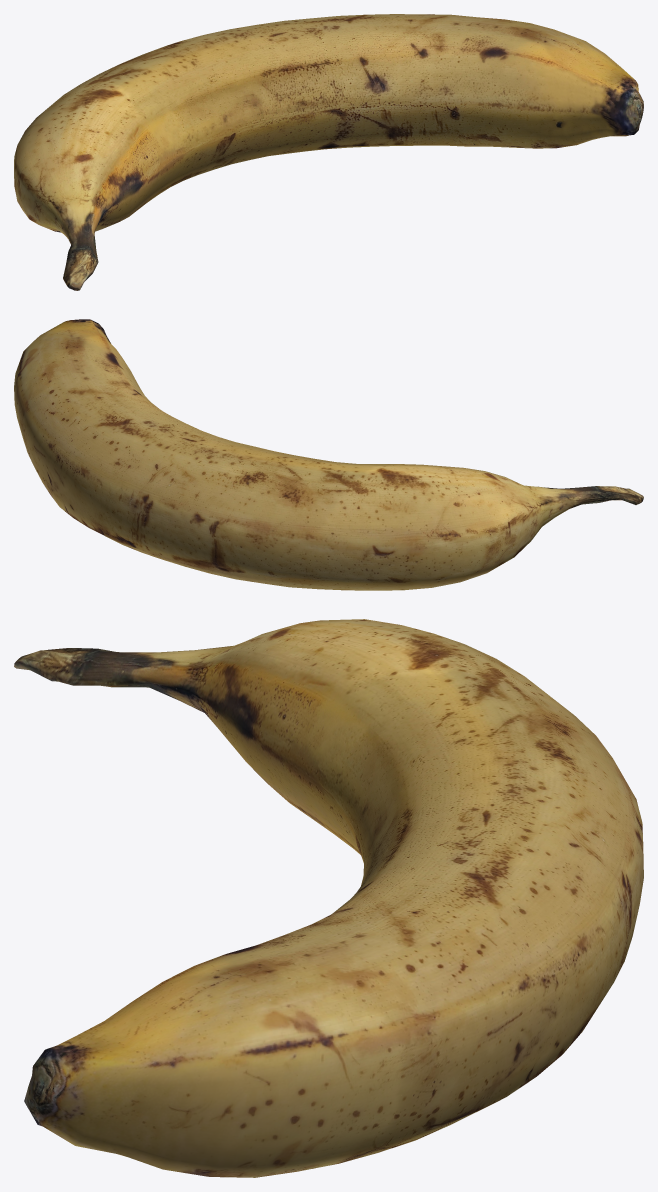
File: ripe_banana.glb
3 renders of one model, top to bottom at view 1: azimuth 30°, elevation 25°; view 2: azimuth 150°, elevation 25°; view 3: azimuth 270°, elevation 25°, orthographic. The views are drawn at different scales.
Visible parts, largest first — view 1: low poly; view 2: low poly; view 3: low poly.
Part boxes in pixels (x1,y1,x2,y2): low poly: (14,14,643,290); low poly: (14,319,643,590); low poly: (14,619,643,1177).
Bounding box in the file's own units: 0.166 × 0.0325 × 0.0877.
Materials: 1 (1 with a texture image).
